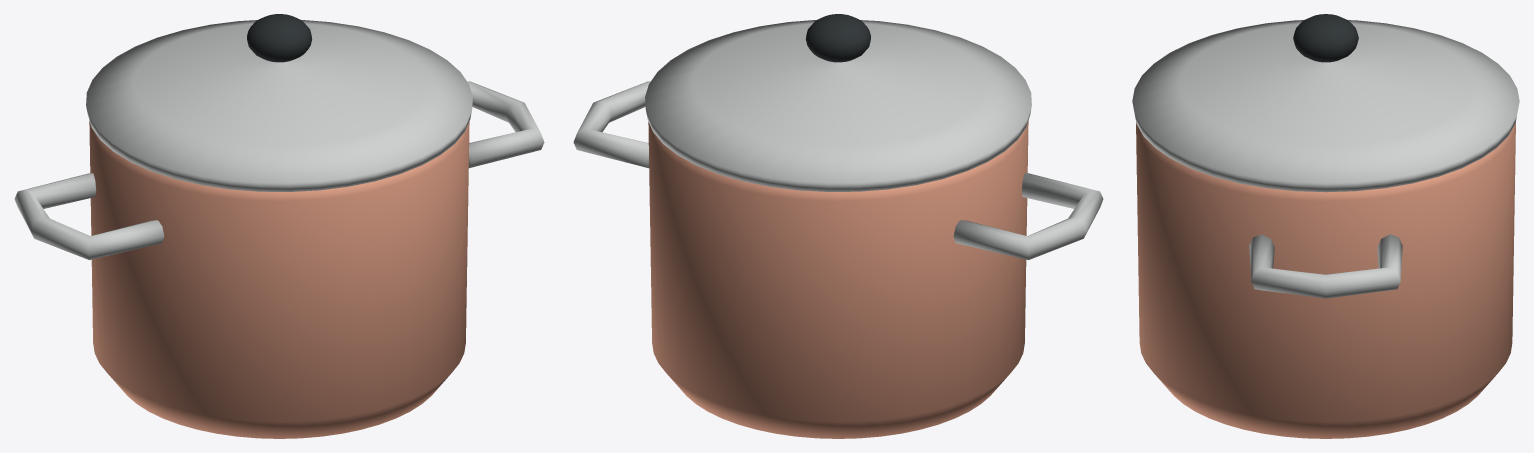
The model's file is stockpot.glb.
3 renders of one model, left to right at view 1: azimuth 30°, elevation 25°; view 2: azimuth 150°, elevation 25°; view 3: azimuth 270°, elevation 25°, orthographic.
Parts seen in each view (by area): view 1: stockpot__body, stockpot__accent, stockpot__technical; view 2: stockpot__body, stockpot__accent, stockpot__technical; view 3: stockpot__body, stockpot__accent, stockpot__technical.
Boxes of the visible parts, box(x1,y1,x2,y2) form: stockpot__body: box(89, 121, 469, 438); stockpot__accent: box(14, 20, 544, 259); stockpot__technical: box(247, 14, 312, 62); stockpot__body: box(648, 121, 1028, 438); stockpot__accent: box(573, 20, 1103, 259); stockpot__technical: box(805, 14, 870, 62); stockpot__body: box(1136, 122, 1515, 438); stockpot__accent: box(1132, 20, 1519, 298); stockpot__technical: box(1293, 14, 1358, 62).
Size of the model in its own units: 0.314 by 0.212 by 0.212.
